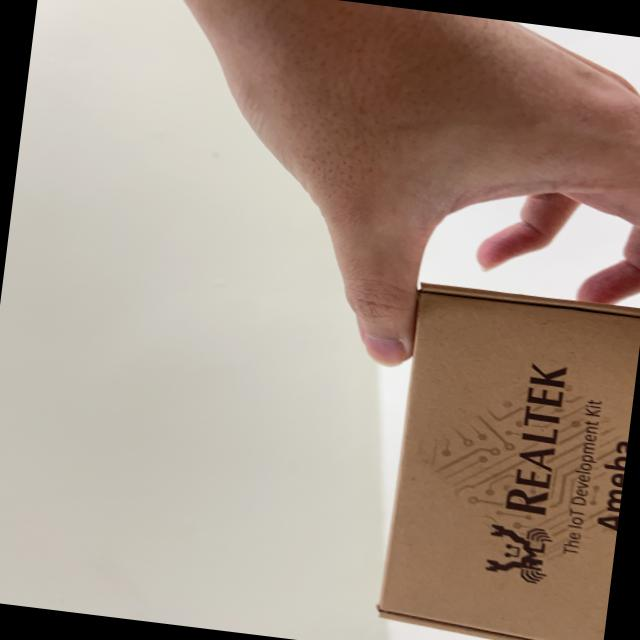box: (346, 263, 640, 640)
